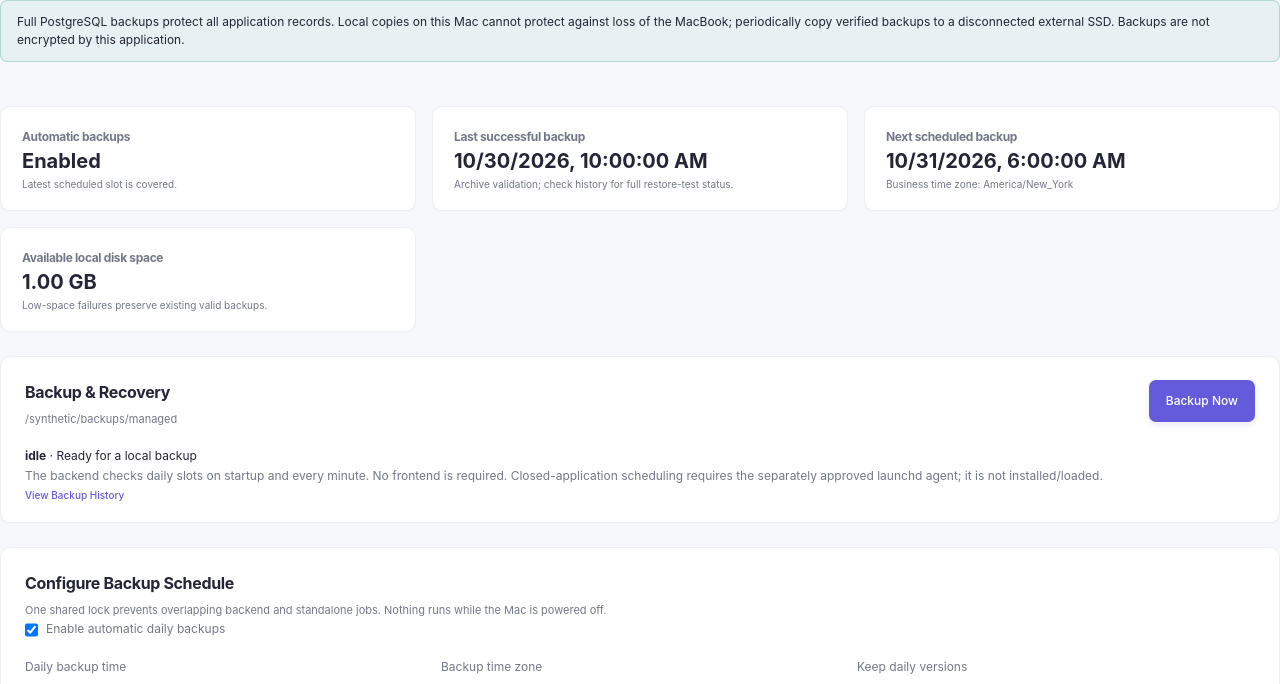
starts manual backup asynchronously and displays acceptance
Click the button "Backup Now" at (1202, 401), box [1149,380,1255,422]
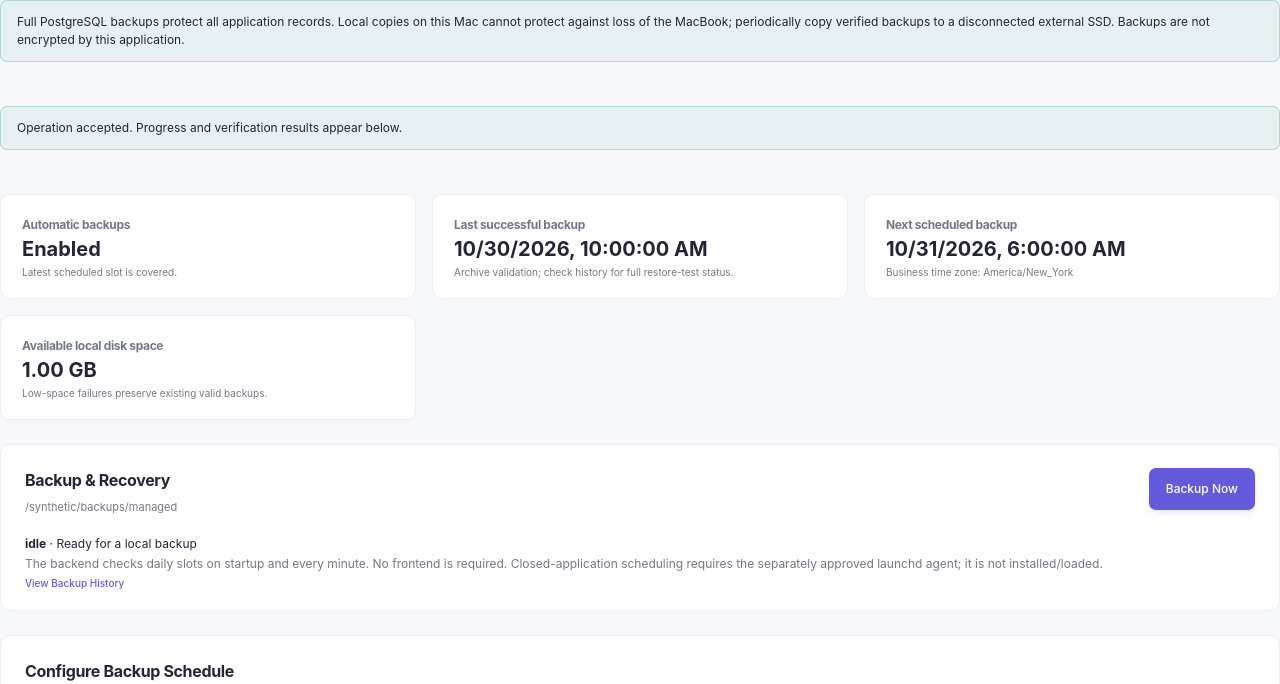
Check: the text "Operation accepted. Progress and verification results appear below." is shown, box [0,106,1279,150]
